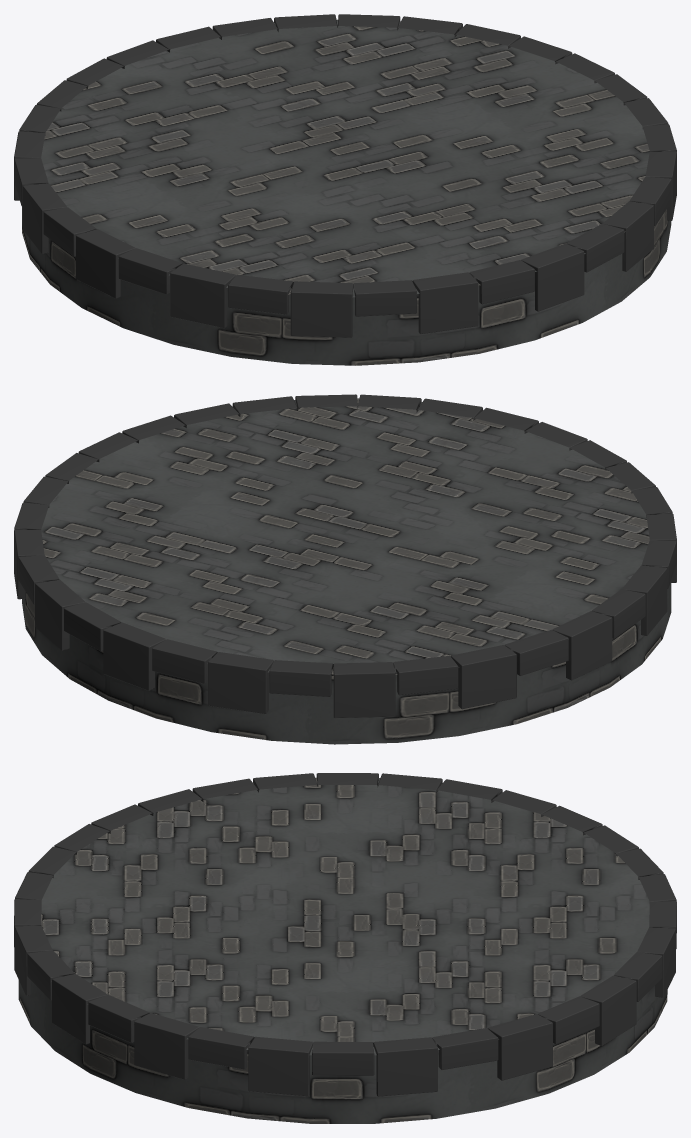
Rendered from SM_Tower_Base.FBX.
3 views of the same model, one above another, from view 1: azimuth 30°, elevation 25°; view 2: azimuth 150°, elevation 25°; view 3: azimuth 270°, elevation 25° (orthographic).
Visible parts, largest first — view 1: SM_Tower_Base_LOD0; view 2: SM_Tower_Base_LOD0; view 3: SM_Tower_Base_LOD0.
Boxes of the visible parts, x1,y1,x2,y2 form: SM_Tower_Base_LOD0: (14,14,676,365); SM_Tower_Base_LOD0: (14,394,676,744); SM_Tower_Base_LOD0: (14,773,676,1123).
Size of what is drawn, in the model's own units: 1645 by 1645 by 203.
